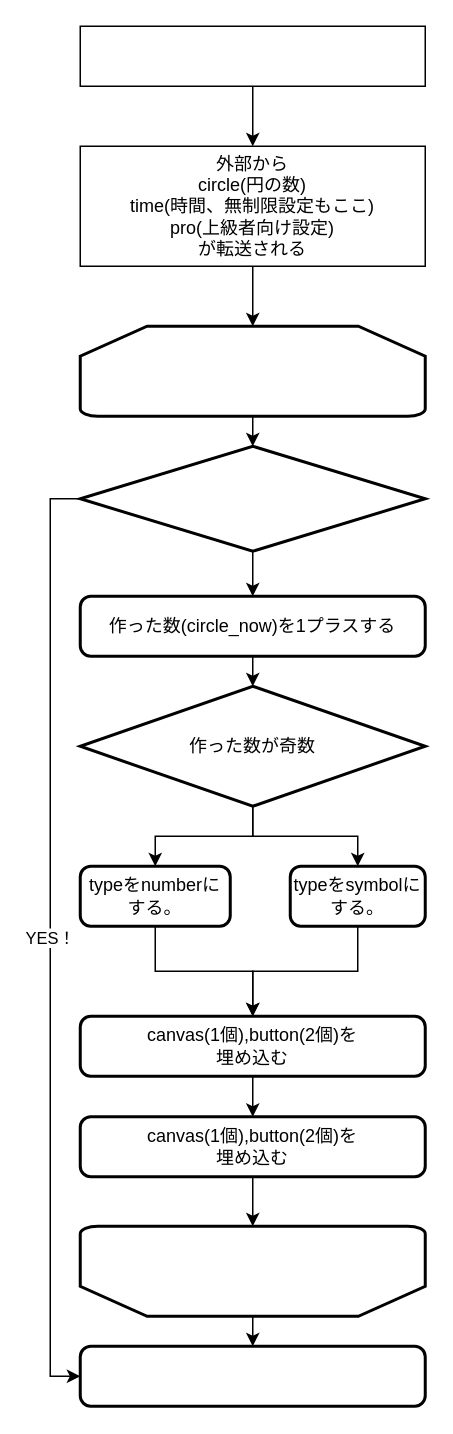
This 453x1434 diagram has some shape labels left out. Each missing label, with the centre of its shape:
javasciptが読み込まれた。: pixel 252 55
作った数が設定の円の数 と同じ: pixel 252 498
円の数の分 canvasをつくる: pixel 252 370
